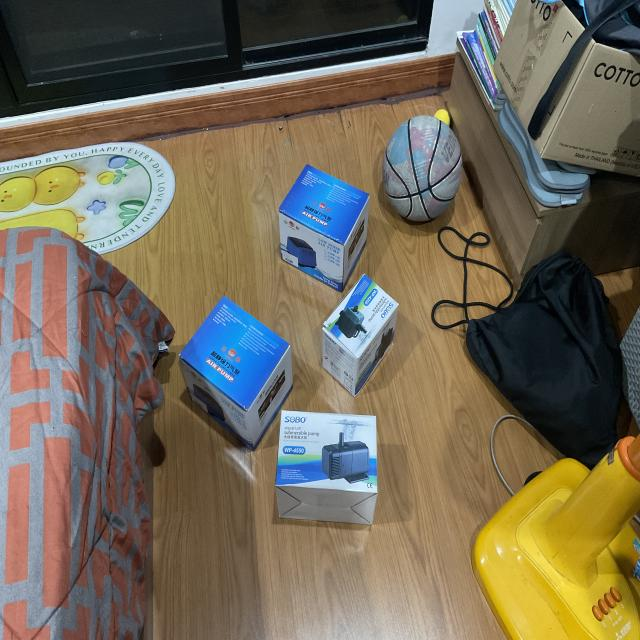SOBO_WP_4200: (270, 396, 385, 540), (319, 275, 417, 406)
YAMANO_LPP_20: (174, 296, 293, 452), (272, 151, 372, 292)
